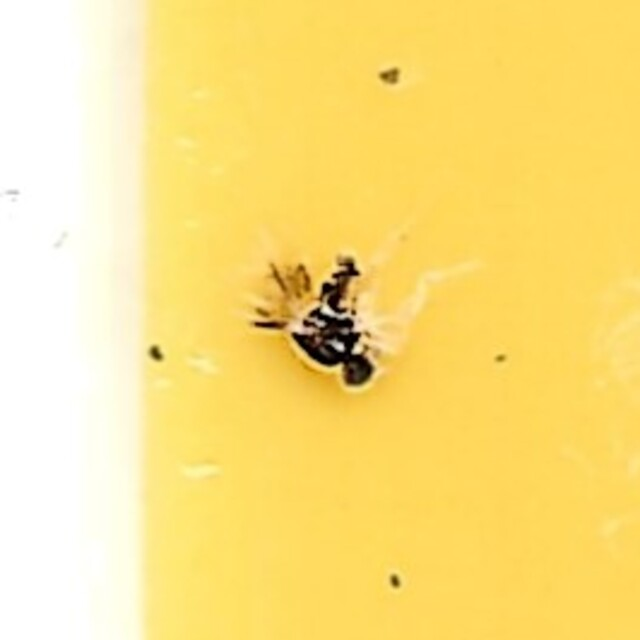Brachycera: (241, 246, 399, 394)
